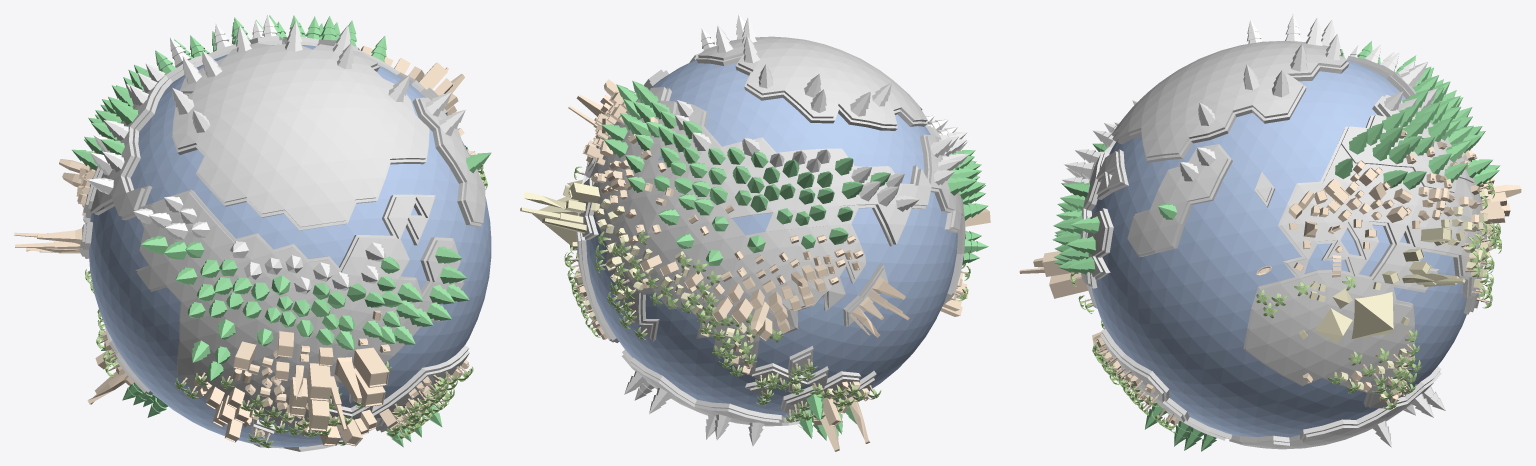
File: planet-3.gltf
3 renders of one model, left to right at view 1: azimuth 30°, elevation 25°; view 2: azimuth 150°, elevation 25°; view 3: azimuth 270°, elevation 25°, orthographic. The views are drawn at different scales.
Parts seen in each view (by area): view 1: earth, sphere, skyscraper.53, skyscraper.54, build.19, skyscraper.51, skyscraper.52, skyscraper.60; view 2: earth, sphere, pyramid, skyscraper.6; view 3: sphere, earth, pyramid, pyramid.2, skyscraper.52.
Boxes of the visible parts, x1,y1,x2,y2 form: earth: [80, 35, 485, 451]; sphere: [89, 44, 491, 447]; skyscraper.53: [353, 347, 389, 387]; skyscraper.54: [307, 363, 331, 401]; build.19: [334, 357, 361, 402]; skyscraper.51: [307, 392, 329, 431]; skyscraper.52: [354, 368, 385, 407]; skyscraper.60: [233, 341, 256, 371]; earth: [576, 36, 965, 426]; sphere: [586, 60, 957, 417]; pyramid: [532, 197, 578, 250]; skyscraper.6: [569, 182, 600, 202]; sphere: [1091, 59, 1466, 437]; earth: [1080, 41, 1486, 449]; pyramid: [1351, 292, 1393, 338]; pyramid.2: [1314, 308, 1352, 343]; skyscraper.52: [1049, 272, 1088, 298].
Size of the model in its own units: 503 by 468 by 541.
